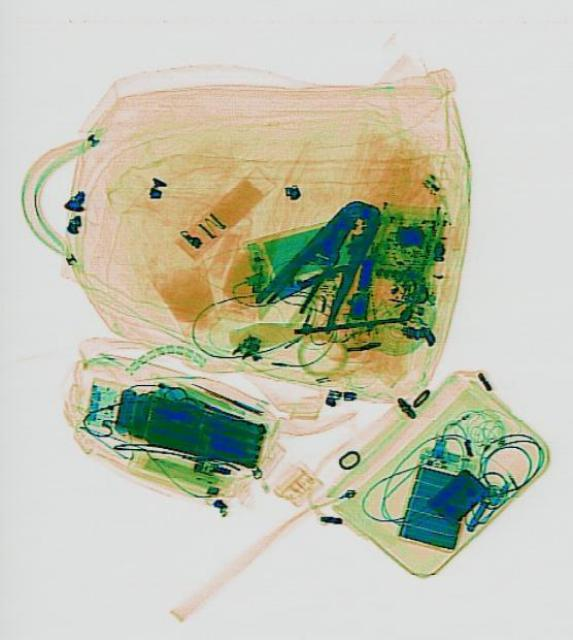Pliers: (249, 177, 402, 349)
